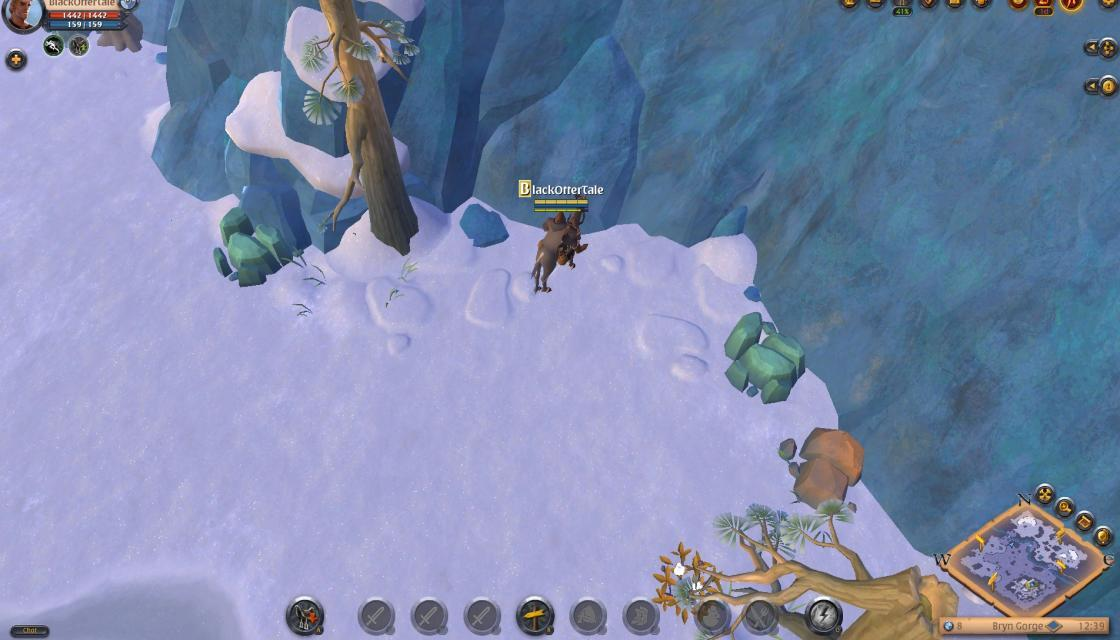limestone: (780, 424, 866, 511)
sandstone: (722, 306, 805, 405), (204, 206, 289, 292)
